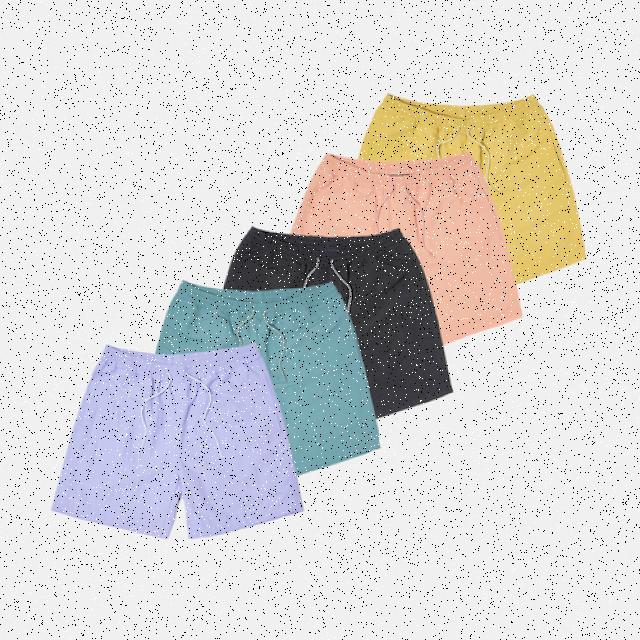Blouse_deep: (277, 145, 520, 334), (62, 348, 296, 529)
